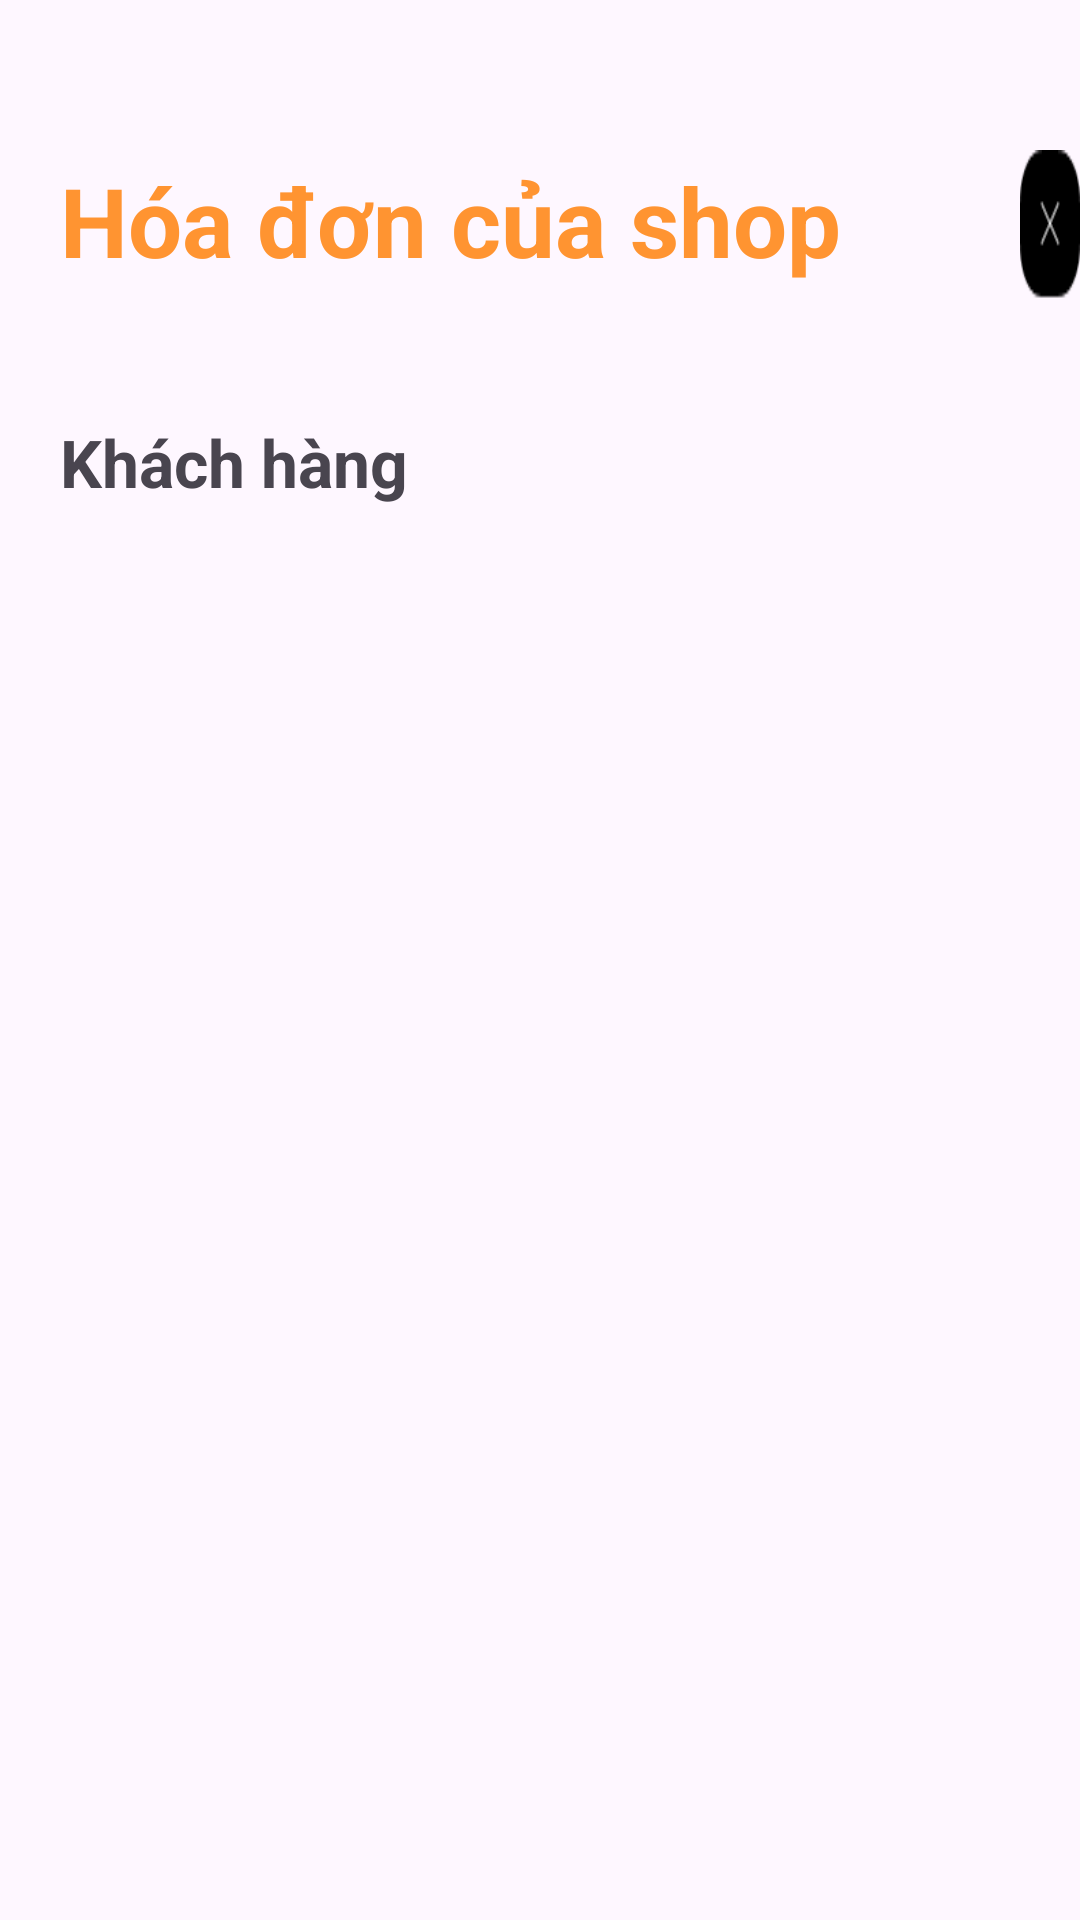

Point at icon controls on the screen. Image size 1080px×1920px, points as point (x, y).
close: point (1050, 224)
